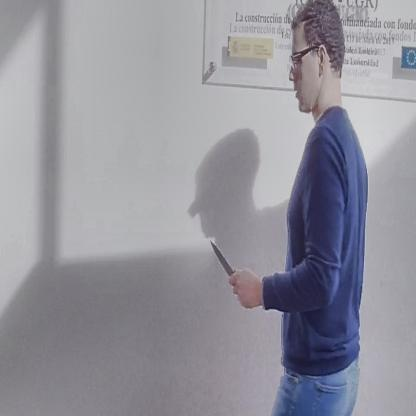knife: (207, 233, 247, 302)
